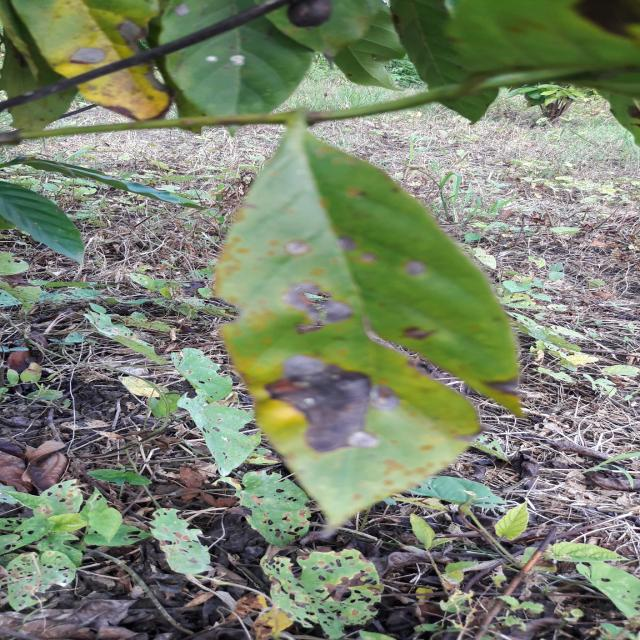Enfermedad-Roya: (212, 108, 524, 534)
